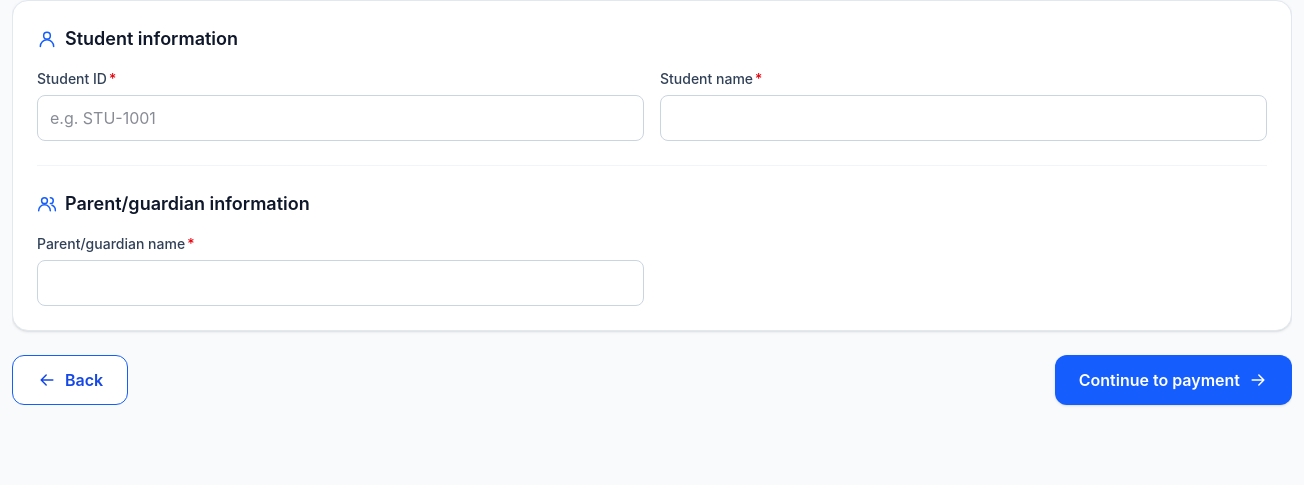
Test: RegisterForm › shows the right message when the student can't be registered (unknown_id)
Type "STU-1001" into the field labelled "Student ID" at (340, 118), box top-left (37, 95), bottom-right (644, 141)
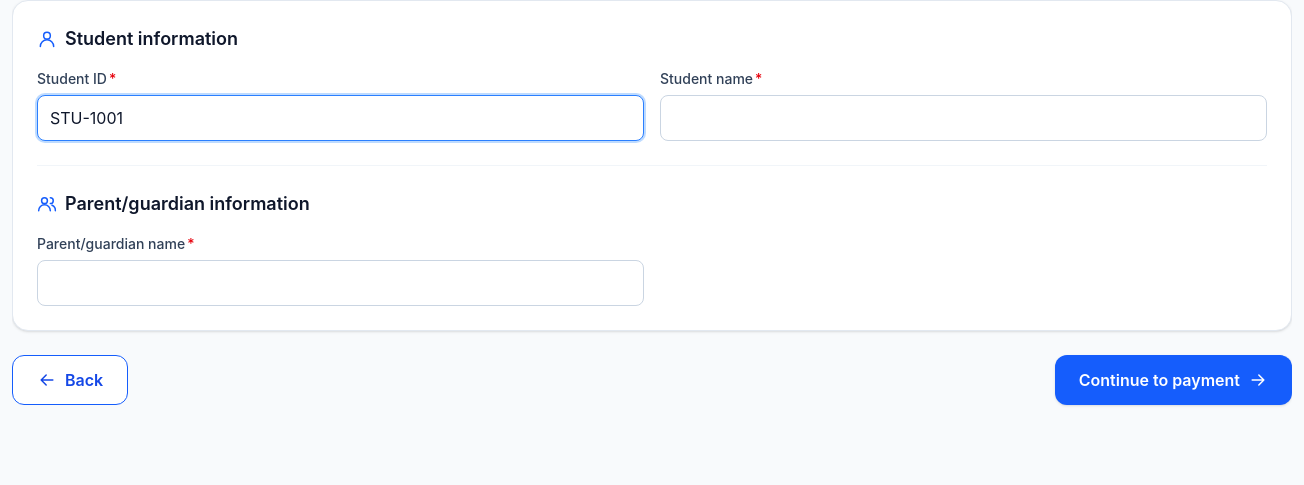
Type "Mia Smith" into the field labelled "Student name" at (964, 118), box top-left (660, 95), bottom-right (1267, 141)
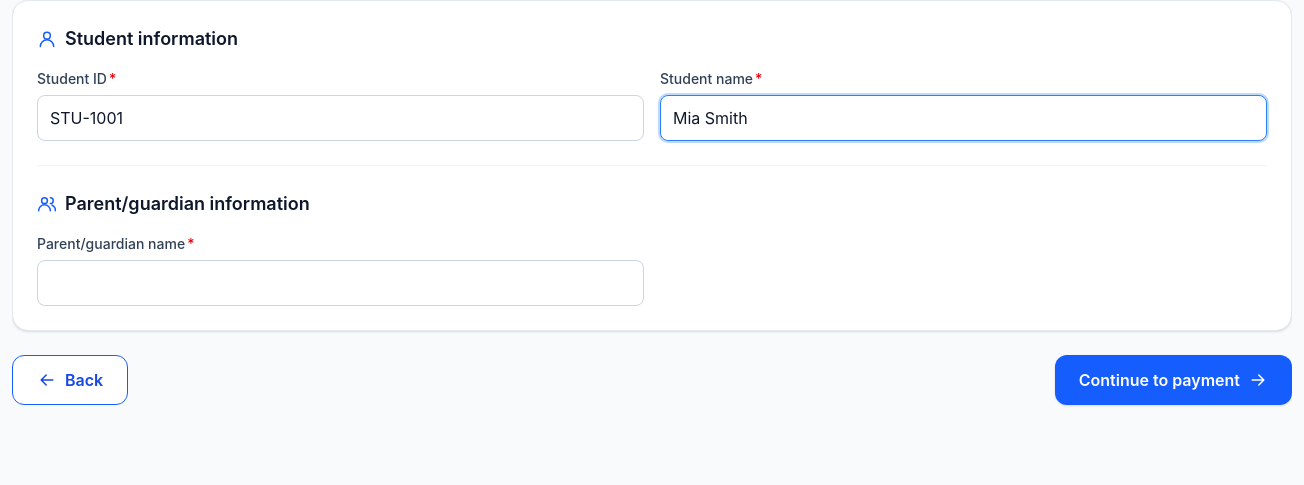
Type "Jane Smith" into the field labelled "Parent/guardian name" at (340, 283), box top-left (37, 260), bottom-right (644, 306)
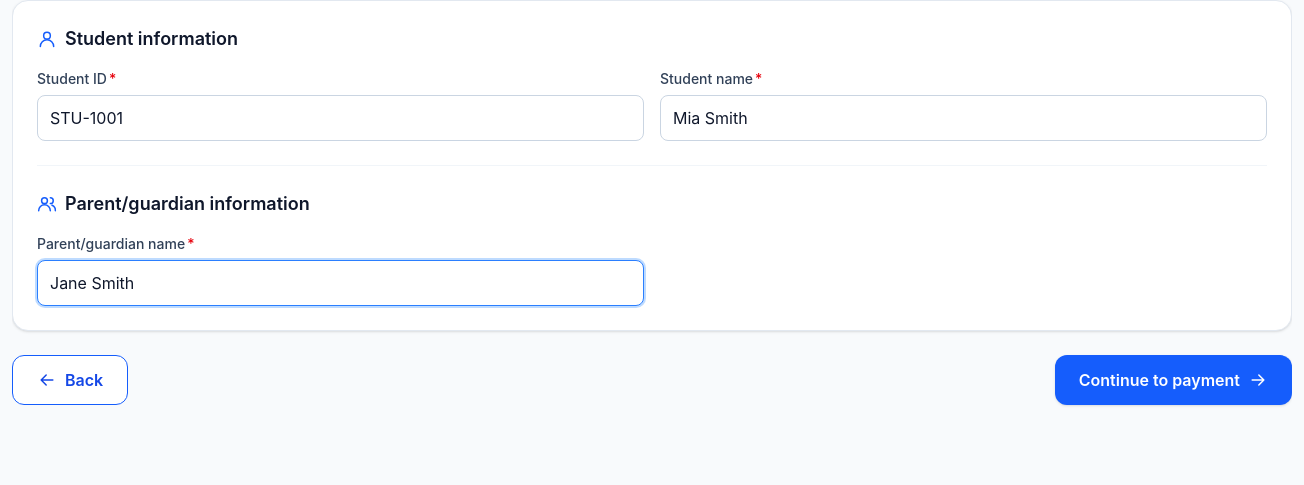
Click the button "Continue to payment" at (1173, 380), box top-left (1055, 355), bottom-right (1292, 405)
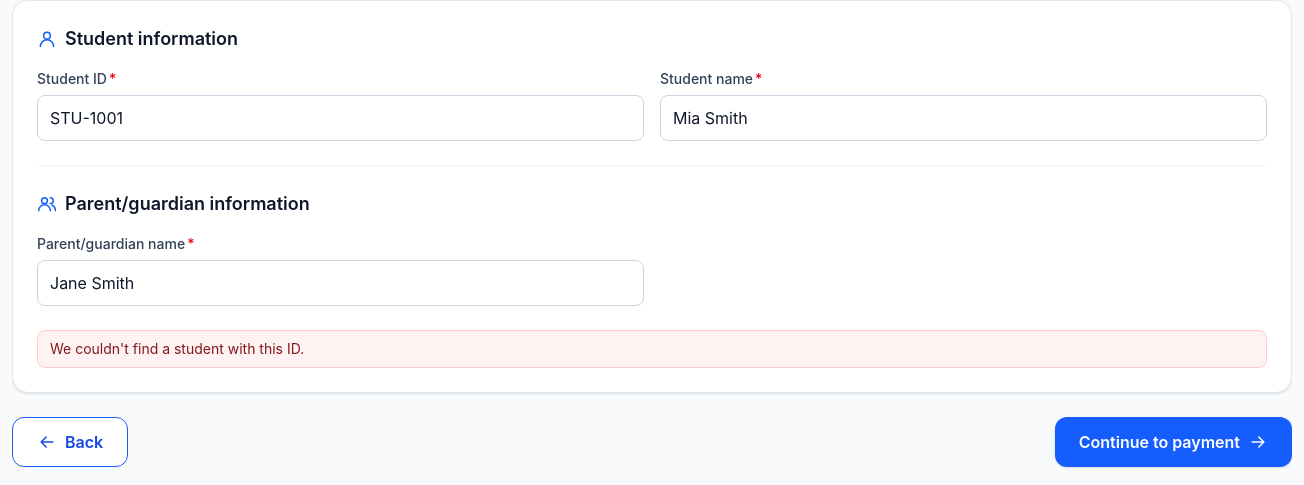
Check: the message reads "We couldn't find a student with this ID.", box top-left (50, 340), bottom-right (304, 357)
